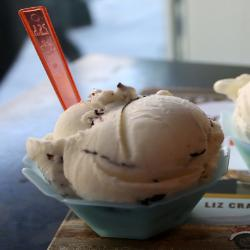icecream: (32, 87, 231, 189)
